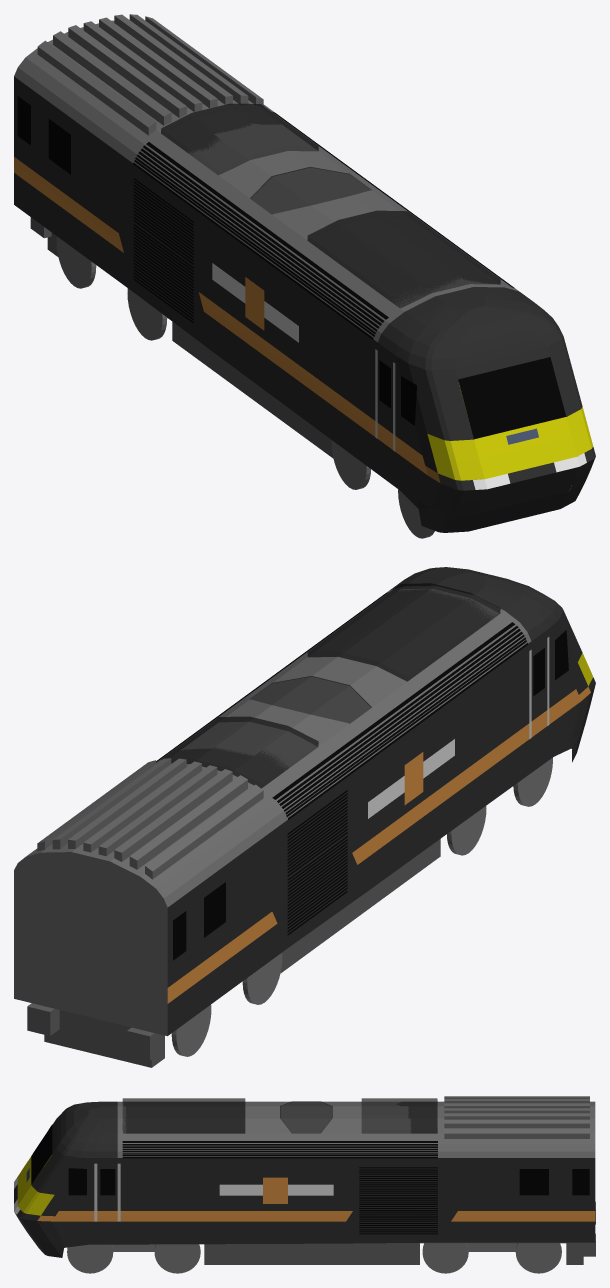
Rendered from br-cl43-front-gc2.dae.
The picture shows the model from 3 angles, top to bottom: view 1: azimuth 30°, elevation 25°; view 2: azimuth 150°, elevation 25°; view 3: azimuth 270°, elevation 25°; orthographic projection. The views are drawn at different scales.
Parts seen in each view (by area): view 1: Plane_030, Plane_001, Cube_008, Plane_028, Plane_135, Plane_148, Plane_136, Plane_117, Plane_166, Plane_137, Cube_033, Cylinder_008 (+6 smaller); view 2: Plane_030, Plane_001, Plane_019, Cube_008, Plane_135, Plane_148, Plane_136, Plane_166, Plane_028, Plane_137, Cube_033, Cube_001 (+9 smaller); view 3: Plane_030, Plane_001, Cube_008, Plane_104, Cube_033, Plane_135, Plane_016, Plane_028, Plane_136, Plane_137, Cylinder_010, Cylinder_011 (+14 smaller).
Part boxes in pixels (<box>): Plane_030: <box>14,76,595,532</box>; Plane_001: <box>14,20,518,342</box>; Cube_008: <box>37,14,263,135</box>; Plane_028: <box>378,287,563,370</box>; Plane_135: <box>307,210,500,308</box>; Plane_148: <box>133,142,388,339</box>; Plane_136: <box>161,103,318,174</box>; Plane_117: <box>458,357,566,439</box>; Plane_166: <box>133,178,193,323</box>; Plane_137: <box>250,167,371,214</box>; Cube_033: <box>172,322,333,458</box>; Cylinder_008: <box>56,236,96,288</box>; Plane_030: <box>167,610,595,1035</box>; Plane_001: <box>14,586,531,907</box>; Plane_019: <box>14,870,167,1036</box>; Cube_008: <box>37,758,263,879</box>; Plane_135: <box>307,583,500,681</box>; Plane_148: <box>272,622,528,819</box>; Plane_136: <box>161,716,318,788</box>; Plane_166: <box>287,790,347,935</box>; Plane_028: <box>390,567,563,640</box>; Plane_137: <box>250,676,371,723</box>; Cube_033: <box>280,839,440,973</box>; Cube_001: <box>44,1010,164,1067</box>; Plane_030: <box>15,1119,595,1257</box>; Plane_001: <box>117,1101,595,1157</box>; Cube_008: <box>444,1096,589,1138</box>; Plane_104: <box>122,1141,437,1158</box>; Cube_033: <box>204,1243,419,1264</box>; Plane_135: <box>122,1098,245,1133</box>; Plane_016: <box>359,1167,437,1234</box>; Plane_028: <box>56,1101,117,1157</box>; Plane_136: <box>361,1098,437,1133</box>; Plane_137: <box>280,1101,332,1133</box>; Cylinder_010: <box>422,1243,468,1273</box>; Cylinder_011: <box>515,1243,561,1273</box>.
Bounding box in the file's own units: 2.06 × 9.99 × 2.77.
